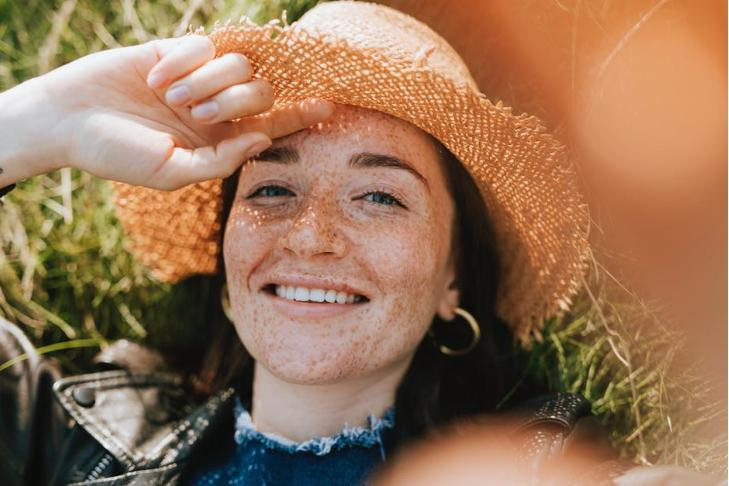face: (226, 107, 440, 377)
